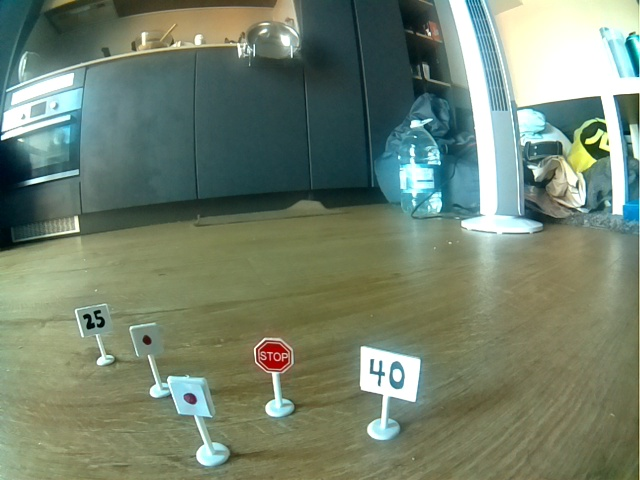red light: (171, 376, 206, 415), (133, 326, 159, 354)
speed 25: (77, 306, 111, 333)
speed 40: (365, 355, 416, 397)
stop: (254, 338, 293, 374)
